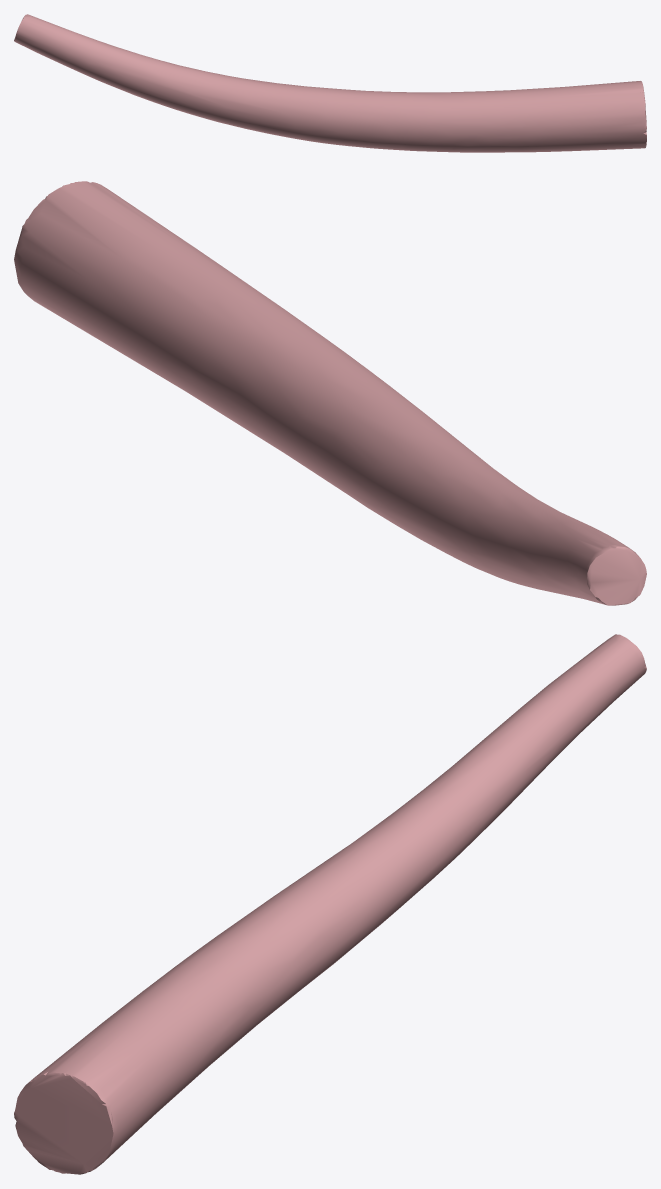
The model's file is fma68213_fj2515.glb.
3 views of the same model, one above another, from view 1: azimuth 30°, elevation 25°; view 2: azimuth 150°, elevation 25°; view 3: azimuth 270°, elevation 25° (orthographic). The views are drawn at different scales.
Parts seen in each view (by area): view 1: FMA68213_FJ2515; view 2: FMA68213_FJ2515; view 3: FMA68213_FJ2515.
Boxes of the visible parts, x1,y1,x2,y2 form: FMA68213_FJ2515: (14,14,646,152); FMA68213_FJ2515: (14,181,646,605); FMA68213_FJ2515: (14,634,646,1174).
Bounding box in the file's own units: 0.0442 × 0.0101 × 0.0316.
